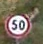limite 50: (4, 10, 31, 38)
